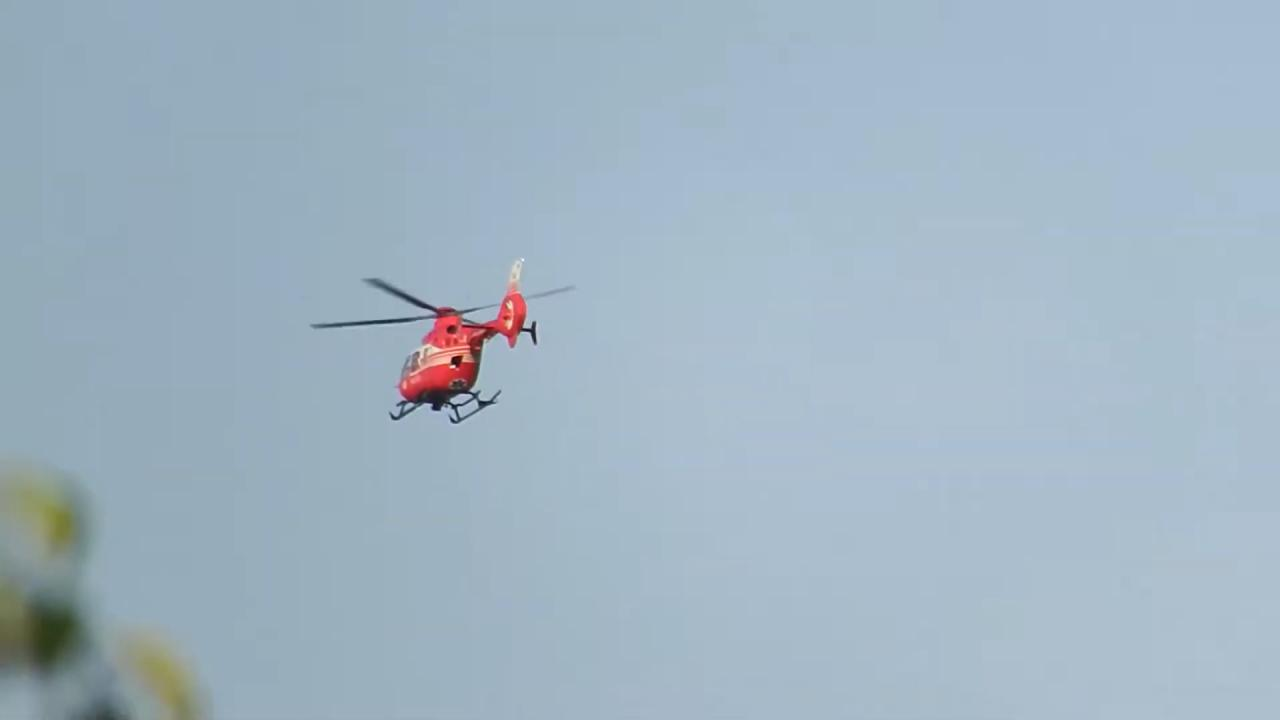Helicopter: (305, 243, 586, 436)
